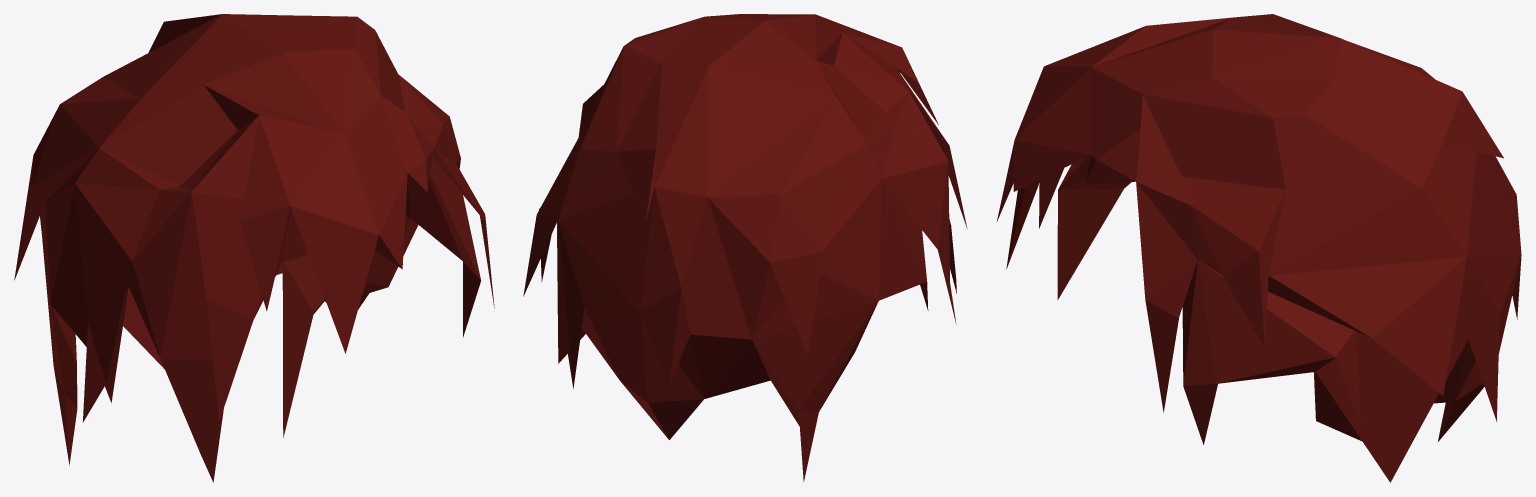
Rendered from Hair_FemaleHumanLowPoly.fbx.
The picture shows the model from 3 angles, left to right: view 1: azimuth 30°, elevation 25°; view 2: azimuth 150°, elevation 25°; view 3: azimuth 270°, elevation 25°; orthographic projection. The views are drawn at different scales.
Visible parts, largest first — view 1: Hair; view 2: Hair; view 3: Hair.
Boxes of the visible parts, x1=… form: Hair: x1=14, y1=14, x2=494, y2=482; Hair: x1=523, y1=14, x2=967, y2=482; Hair: x1=996, y1=14, x2=1521, y2=482.
Bounding box in the file's own units: 0.2722 × 0.2787 × 0.2945.
